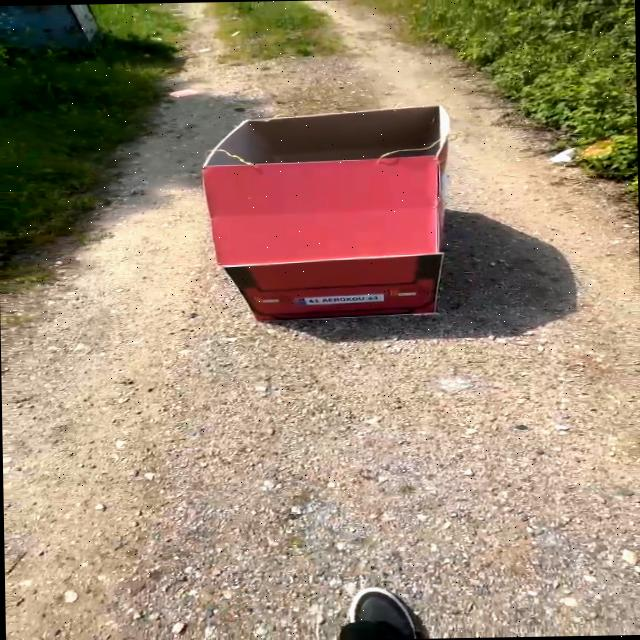red_car: (120, 78, 493, 335)
